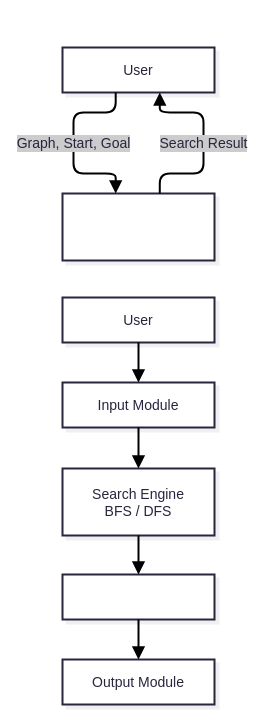
Image size: 264x726. Some labels were removed from this diagram. The shapes that lost their labels are listed below. From the top down, each one's centre as x and y in pixels, then its label:
At point 140,228: "BFS & DFS Search System".
At point 140,598: "Visited Set".
